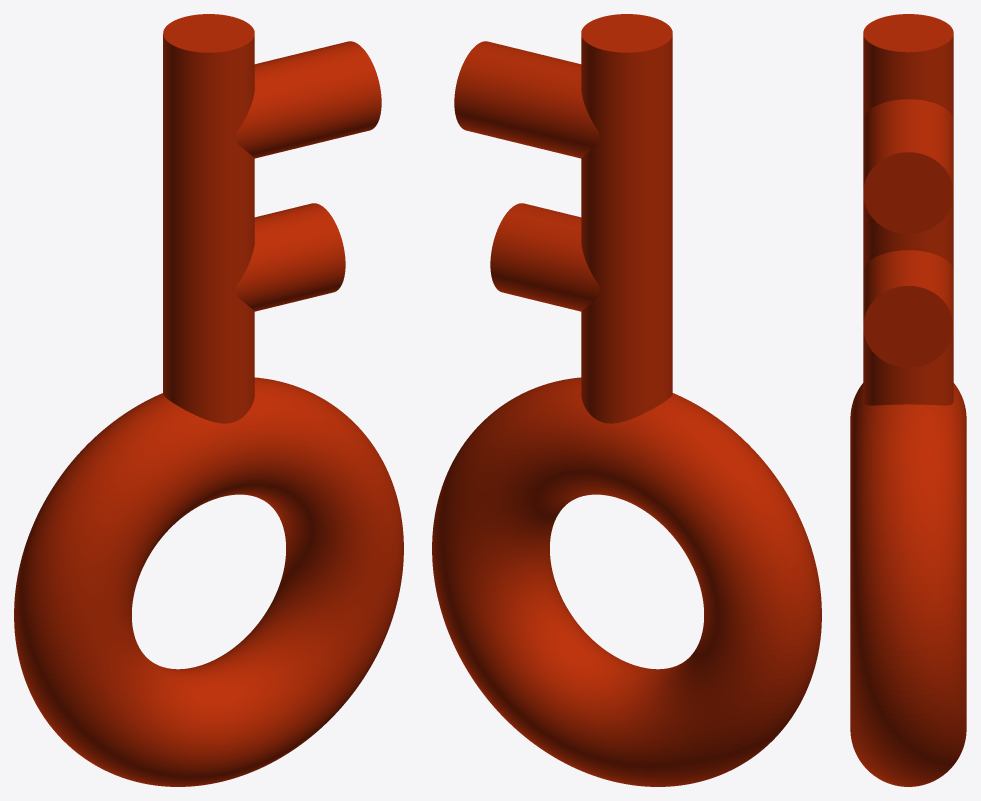
The model's file is RedKey.fbx.
3 views of the same model, side by side, from view 1: azimuth 30°, elevation 25°; view 2: azimuth 150°, elevation 25°; view 3: azimuth 270°, elevation 25° (orthographic).
Parts seen in each view (by area): view 1: Torus, Cylinder, Cylinder.001, Cylinder.002; view 2: Torus, Cylinder, Cylinder.001, Cylinder.002; view 3: Torus, Cylinder, Cylinder.001, Cylinder.002.
Part boxes in pixels (box(x1,y1,x2,y2)): Torus: box(14, 377, 403, 786); Cylinder: box(163, 14, 254, 423); Cylinder.001: box(236, 41, 381, 158); Cylinder.002: box(236, 203, 345, 311); Torus: box(432, 377, 821, 786); Cylinder: box(581, 14, 672, 423); Cylinder.001: box(454, 41, 599, 158); Cylinder.002: box(490, 203, 599, 311); Torus: box(850, 383, 966, 786); Cylinder: box(863, 14, 953, 405); Cylinder.001: box(863, 99, 953, 233); Cylinder.002: box(863, 250, 953, 367).
Size of the model in its own units: 132 by 251 by 36.
